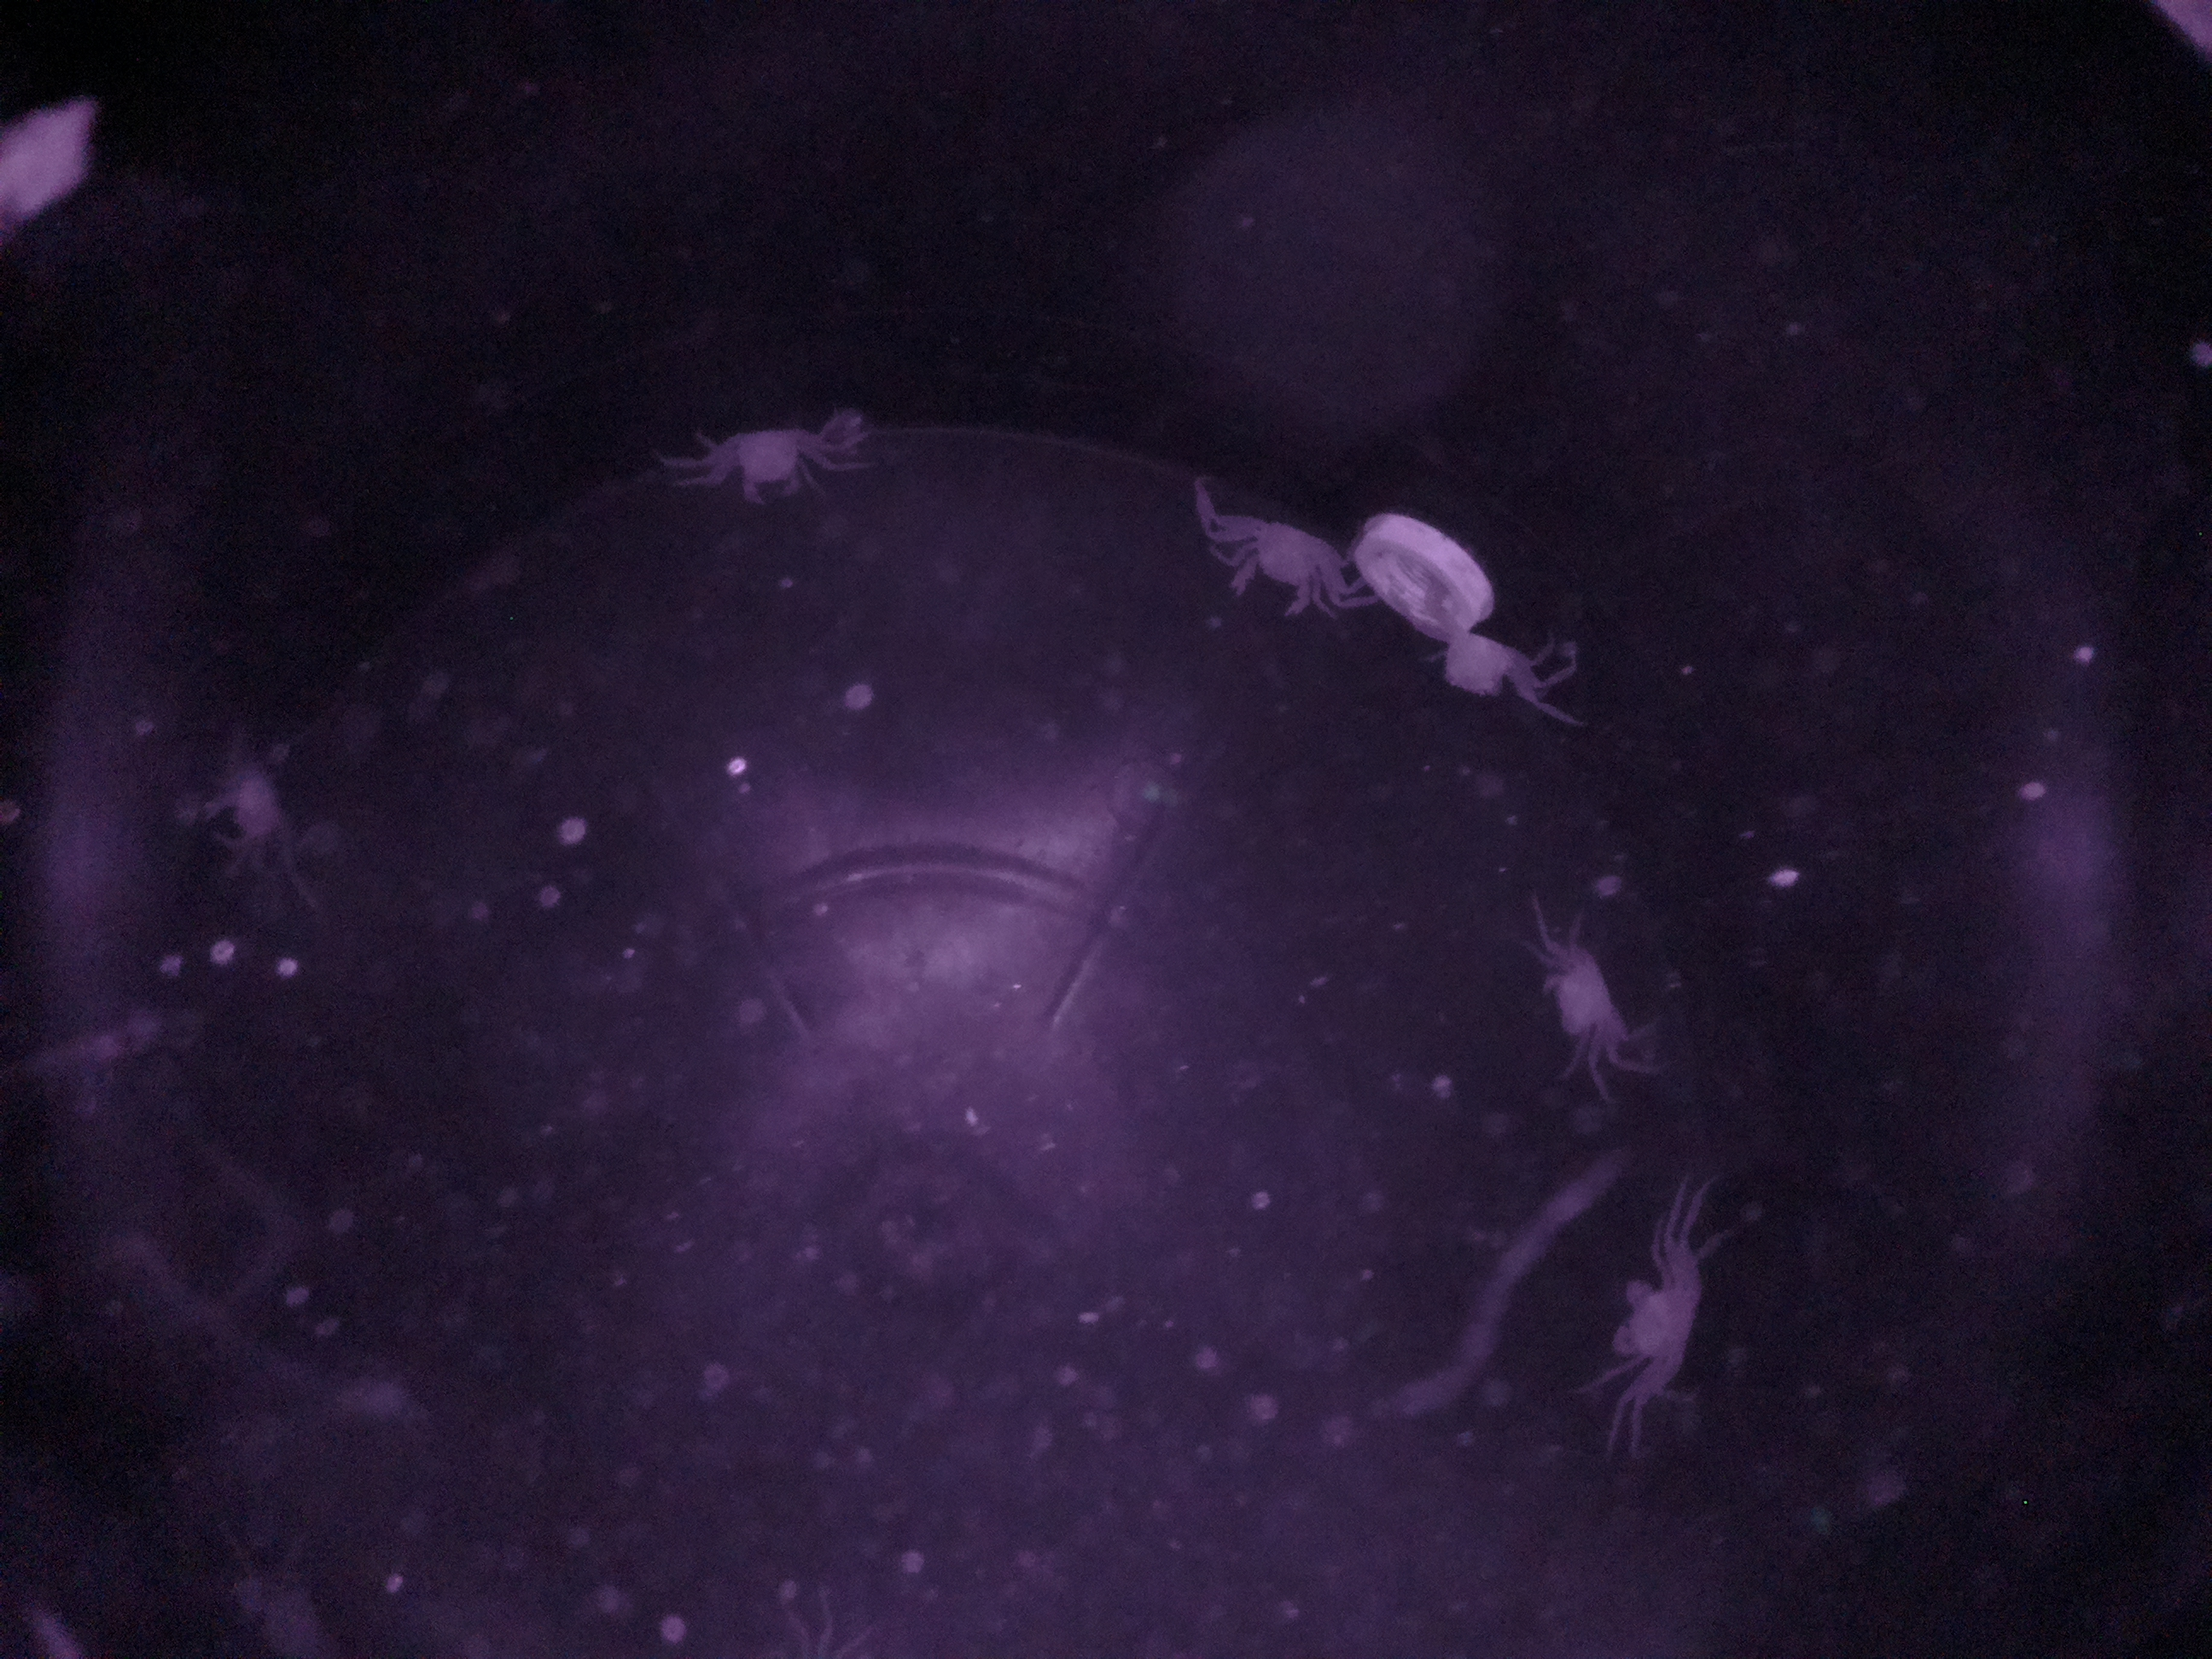Crab: (1583, 1237, 1728, 1419), (1214, 493, 1348, 640), (704, 406, 838, 538), (1534, 931, 1642, 1068)
